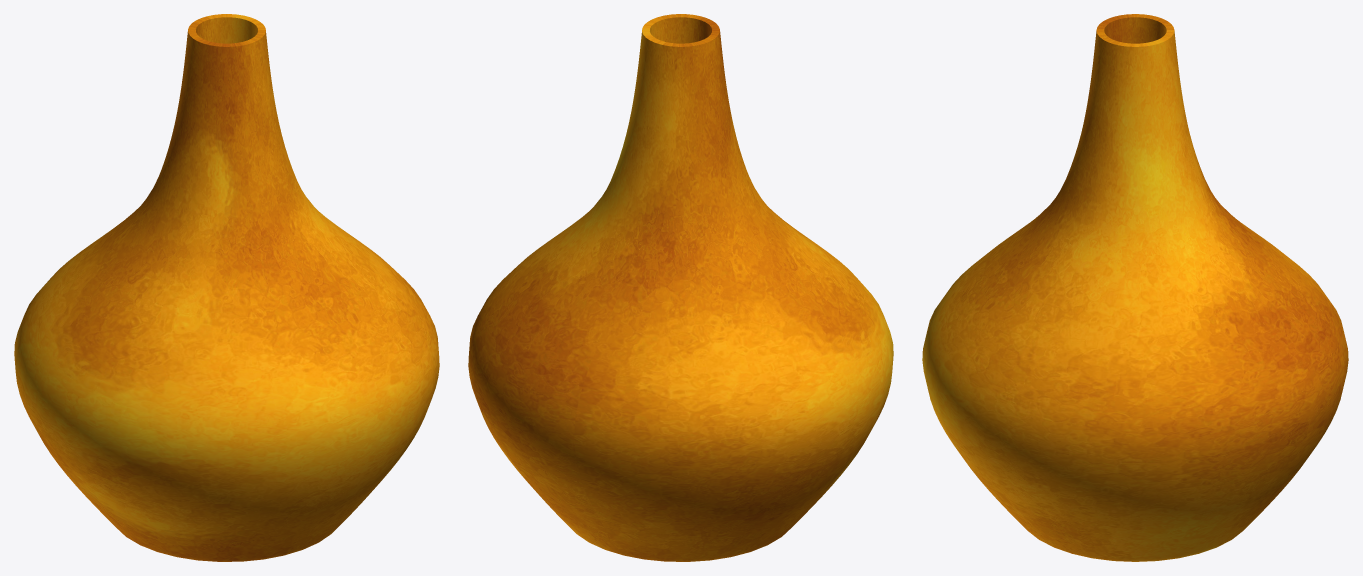
File: vase2.FBX
3 renders of one model, left to right at view 1: azimuth 30°, elevation 25°; view 2: azimuth 150°, elevation 25°; view 3: azimuth 270°, elevation 25°, orthographic.
Parts seen in each view (by area): view 1: vase2; view 2: vase2; view 3: vase2.
Boxes of the visible parts, box(x1,y1,x2,y2) form: vase2: box(14, 14, 439, 561); vase2: box(468, 14, 893, 561); vase2: box(922, 14, 1348, 561).
Size of the model in its own units: 127 by 127 by 160.
